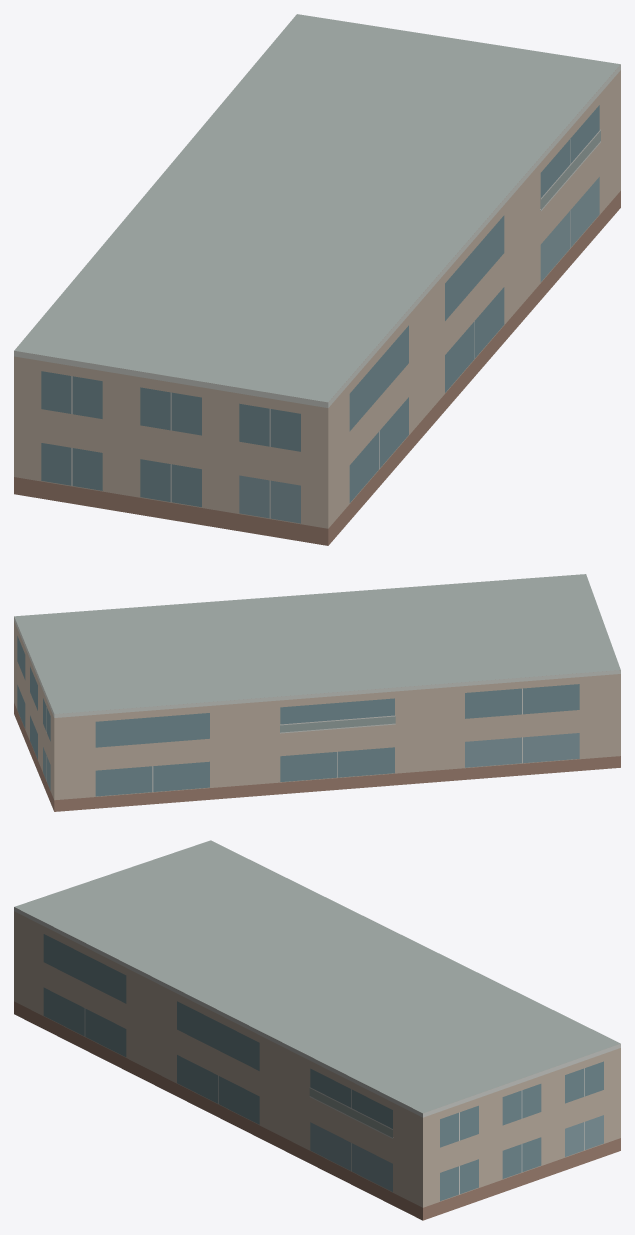
File: survey-upis-32844016.glb
3 renders of one model, top to bottom at view 1: azimuth 30°, elevation 25°; view 2: azimuth 150°, elevation 25°; view 3: azimuth 270°, elevation 25°, orthographic. The views are drawn at different scales.
Parts seen in each view (by area): view 1: survey-upis-32844016.tmp; view 2: survey-upis-32844016.tmp; view 3: survey-upis-32844016.tmp.
Boxes of the visible parts, x1,y1,x2,y2 form: survey-upis-32844016.tmp: (14, 14, 620, 545); survey-upis-32844016.tmp: (14, 574, 620, 811); survey-upis-32844016.tmp: (14, 840, 620, 1220).
Size of the model in its own units: 33.33 by 6.1 by 31.29.
